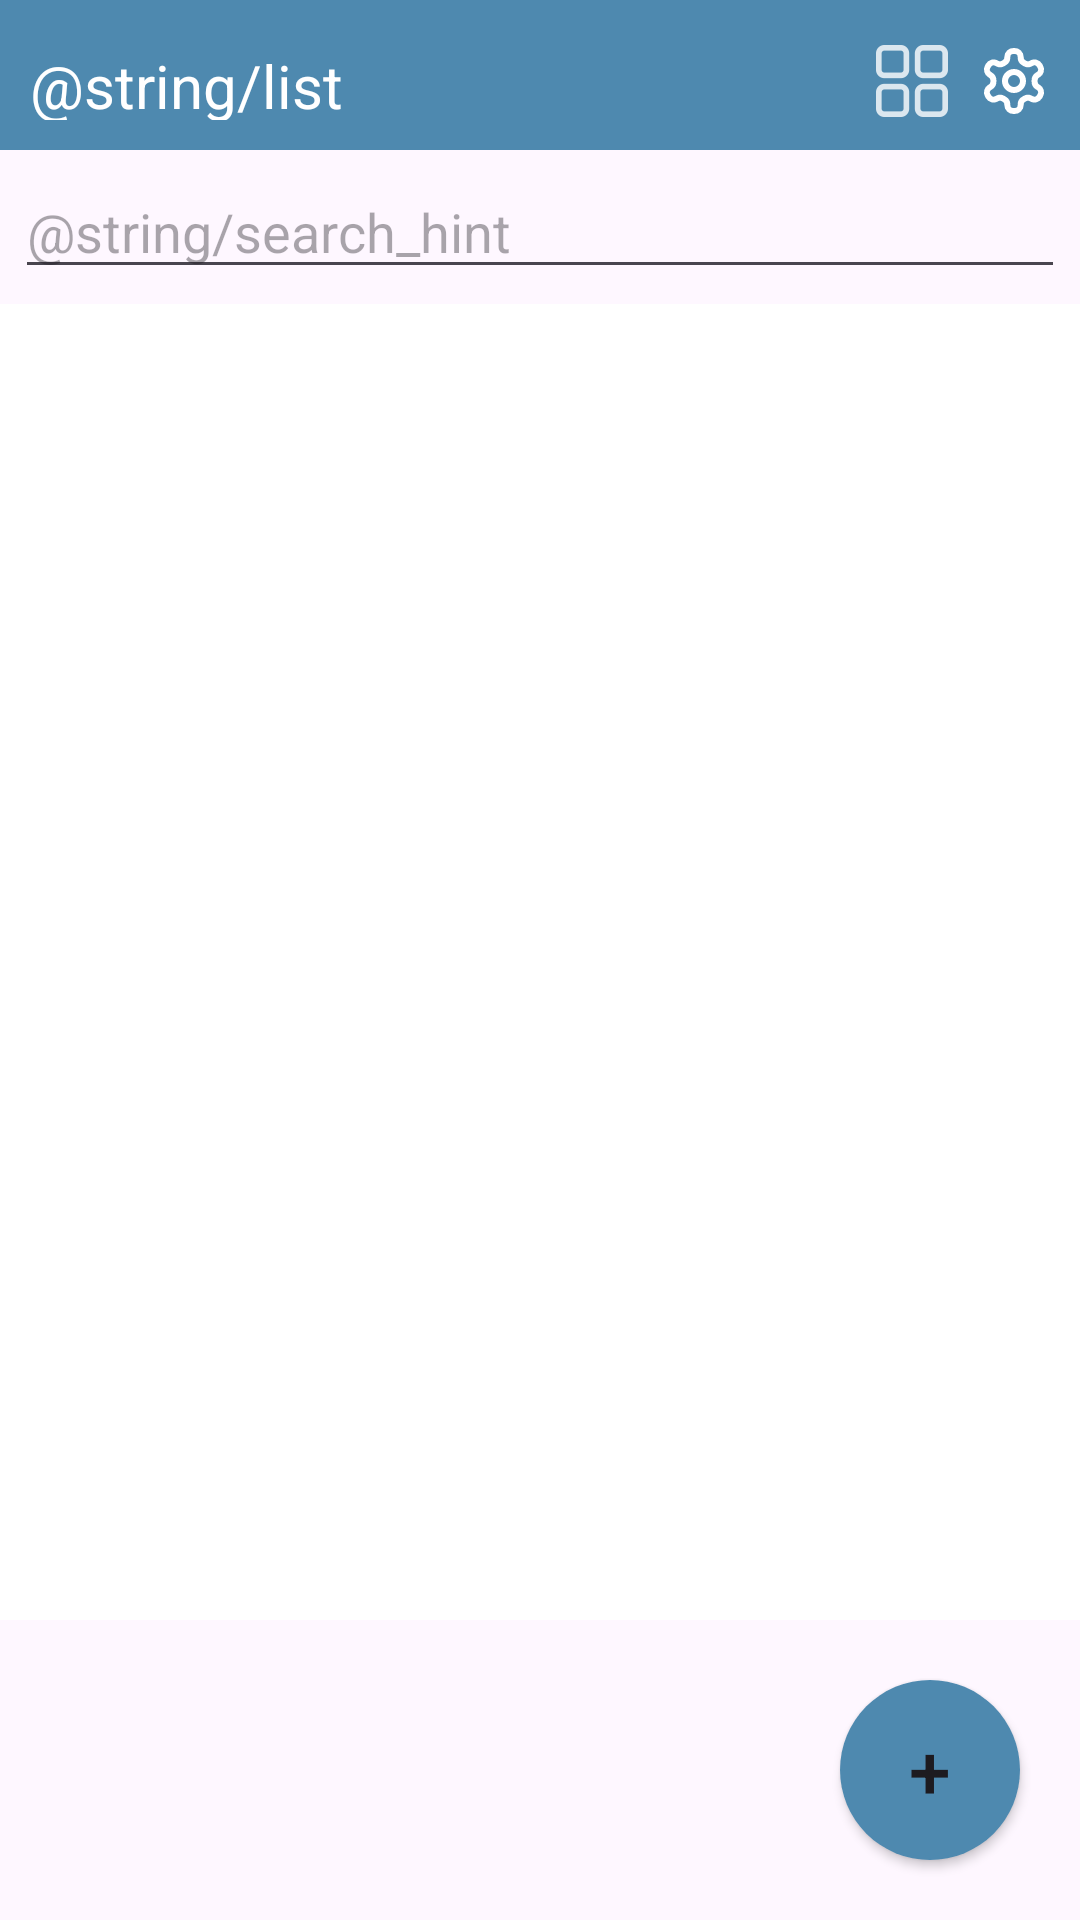

Named icons in this screenshot (1080px x 1920px) and their bounding boxes, [left=x1, top=y1, right=x2, bottom=y2]:
settings: [left=984, top=48, right=1044, bottom=114]
